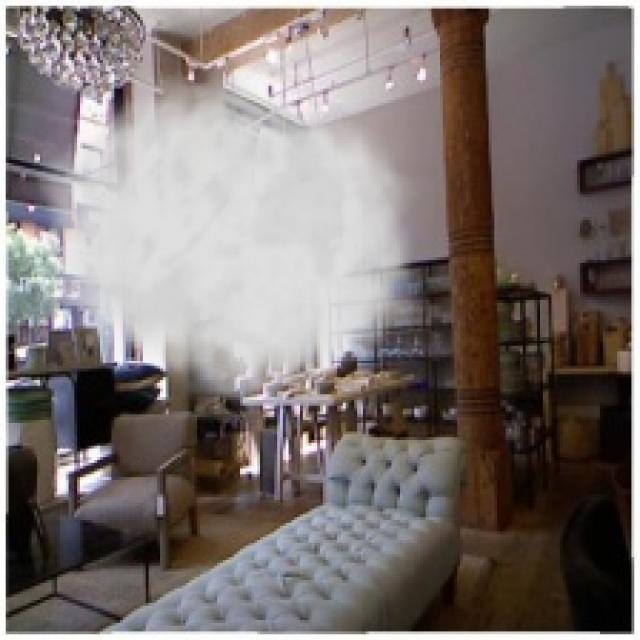Smoke: (32, 54, 434, 414)
